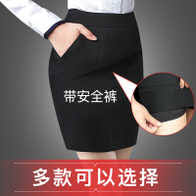F_tailored skirt: (43, 8, 146, 155)
